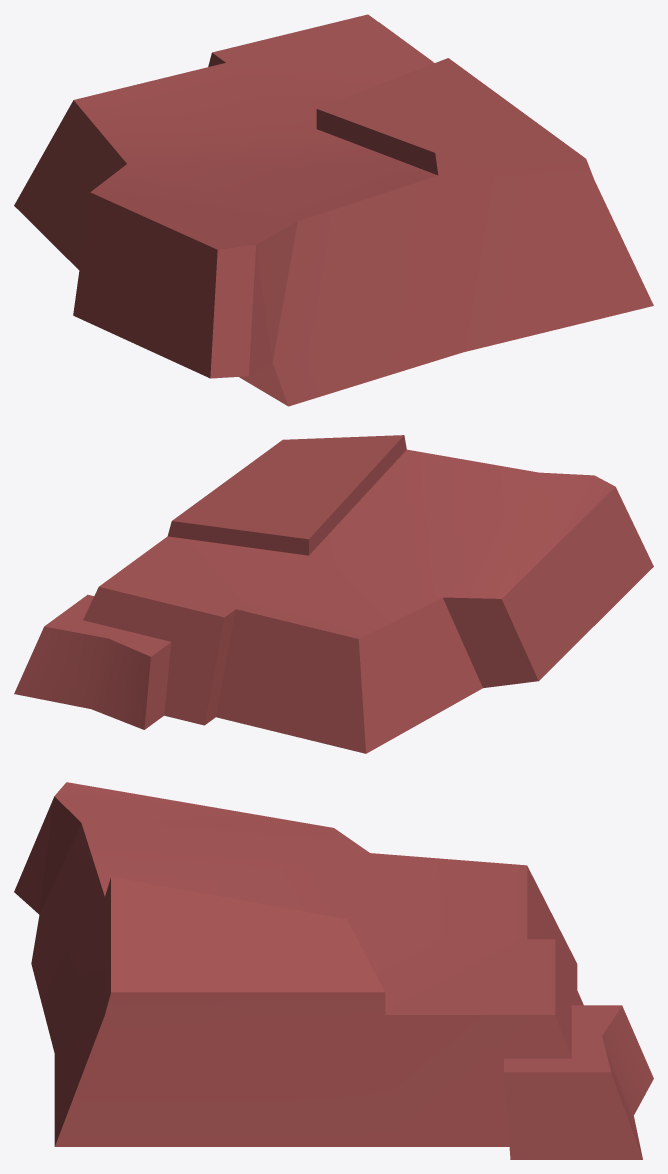
File: SM_Flat_Stone_05.fbx
The picture shows the model from 3 angles, top to bottom: view 1: azimuth 30°, elevation 25°; view 2: azimuth 150°, elevation 25°; view 3: azimuth 270°, elevation 25°; orthographic projection. The views are drawn at different scales.
Parts seen in each view (by area): view 1: Box071; view 2: Box071; view 3: Box071.
Boxes of the visible parts, x1,y1,x2,y2 form: Box071: (14,14,653,406); Box071: (14,435,653,753); Box071: (14,782,653,1159).
Bounding box in the file's own units: 83.65 × 29.48 × 96.21.
